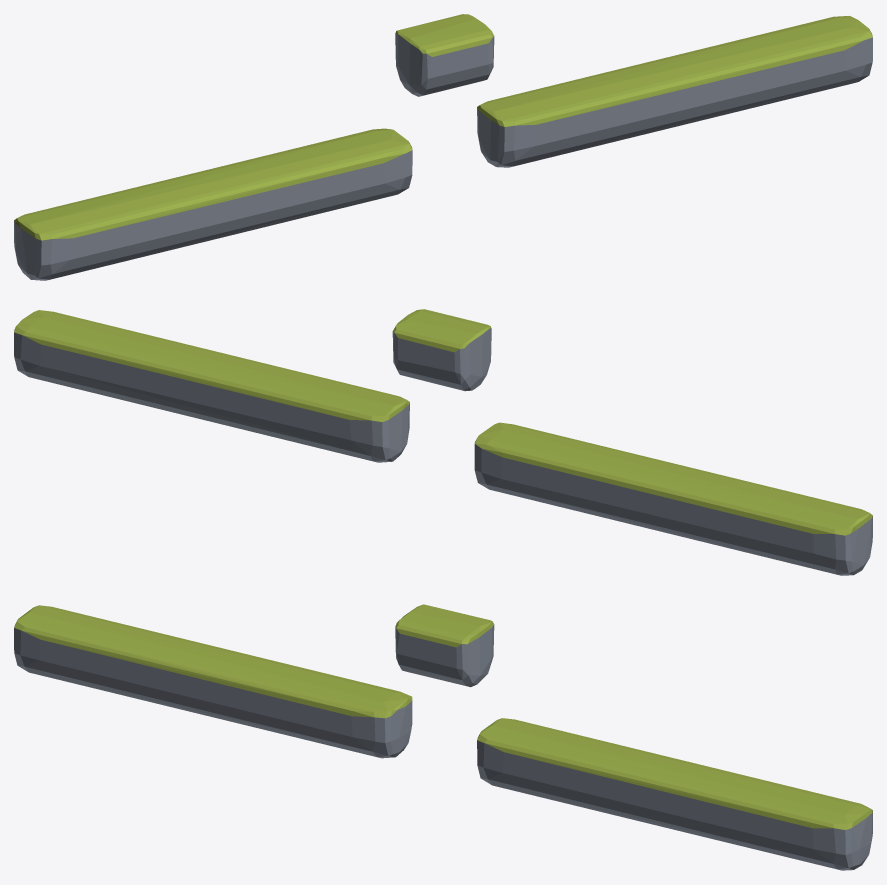
The model's file is Horizontal Platform 6.fbx.
3 renders of one model, top to bottom at view 1: azimuth 30°, elevation 25°; view 2: azimuth 150°, elevation 25°; view 3: azimuth 330°, elevation 25°, orthographic.
Parts seen in each view (by area): view 1: Cube.012, Cube.013; view 2: Cube.012, Cube.013; view 3: Cube.012, Cube.013.
Part boxes in pixels (left/top/right/bottom): Cube.012: left=14, top=16, right=872, bottom=280; Cube.013: left=395, top=14, right=494, bottom=96; Cube.012: left=14, top=310, right=872, bottom=575; Cube.013: left=392, top=309, right=491, bottom=391; Cube.012: left=14, top=605, right=872, bottom=870; Cube.013: left=395, top=604, right=494, bottom=687.
Bounding box in the file's own units: 2982 × 507 × 200.
